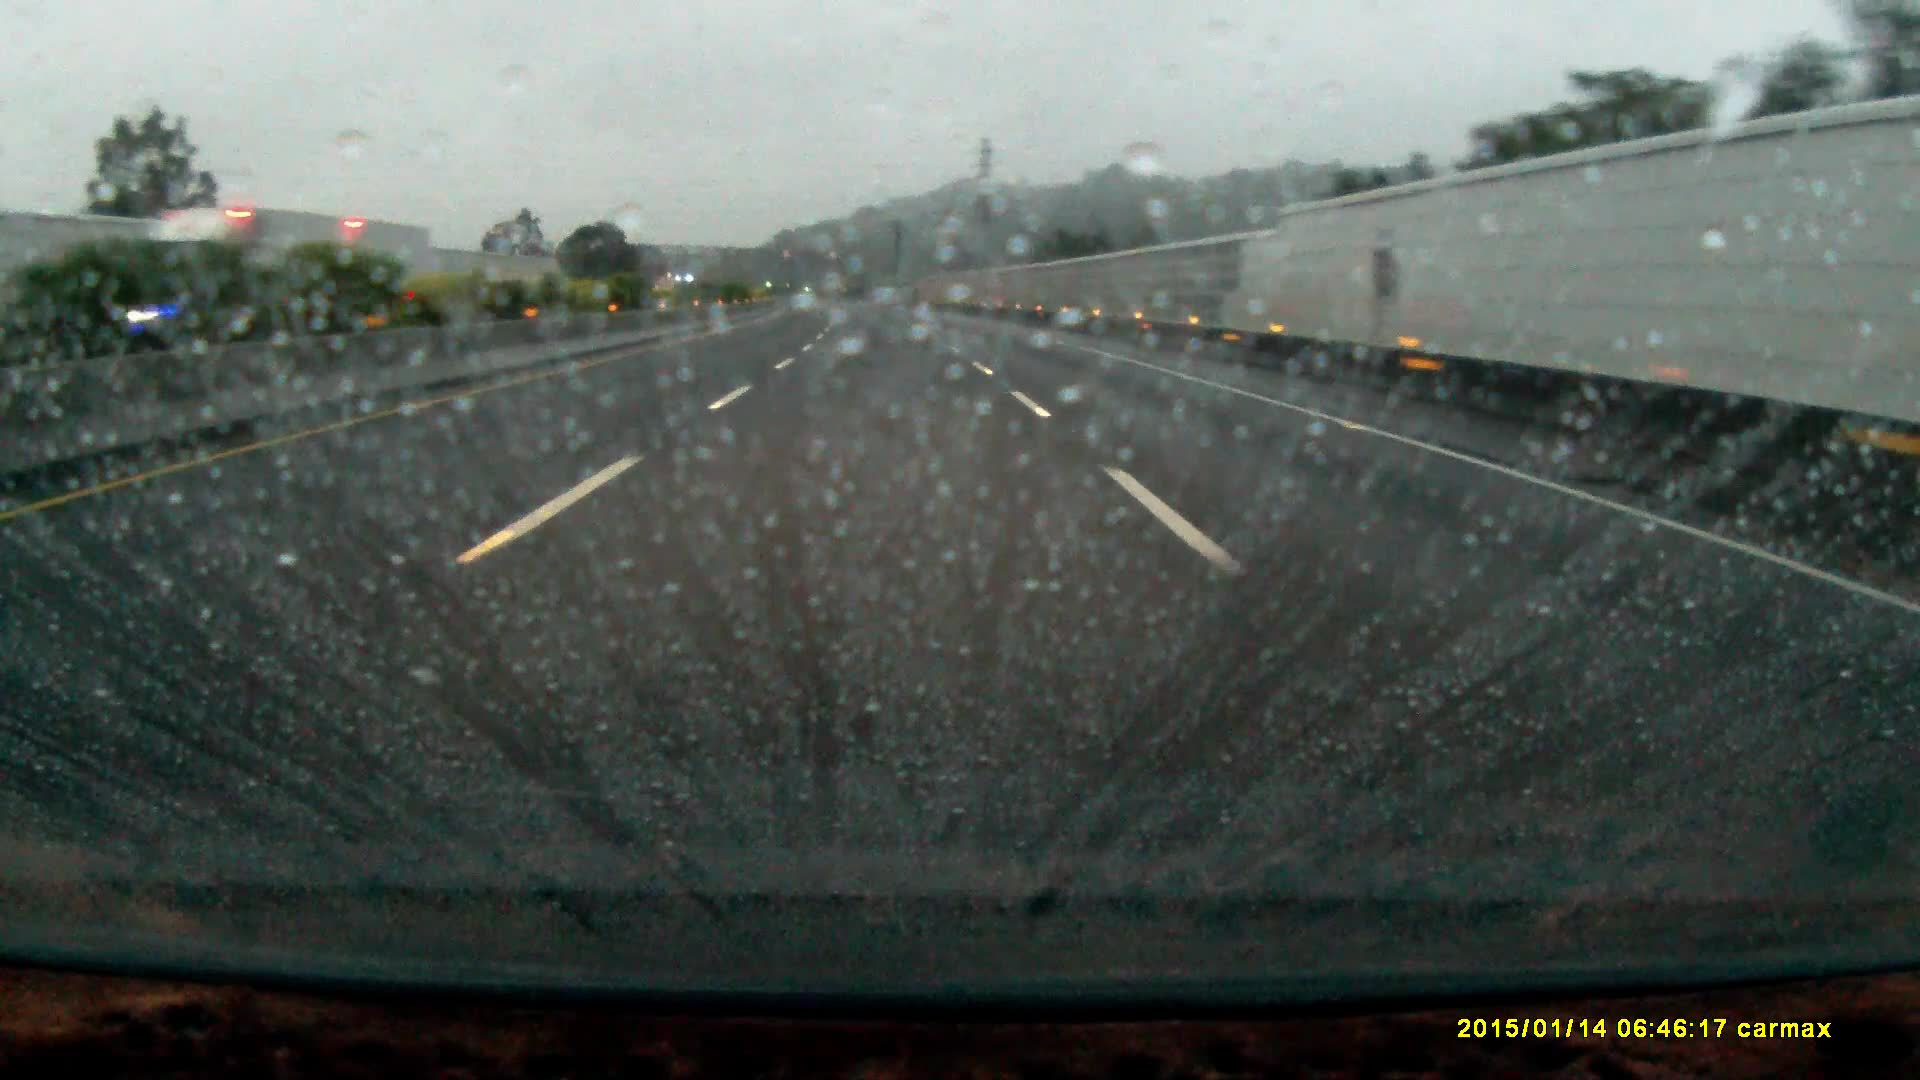vehicle: (142, 214, 433, 334)
